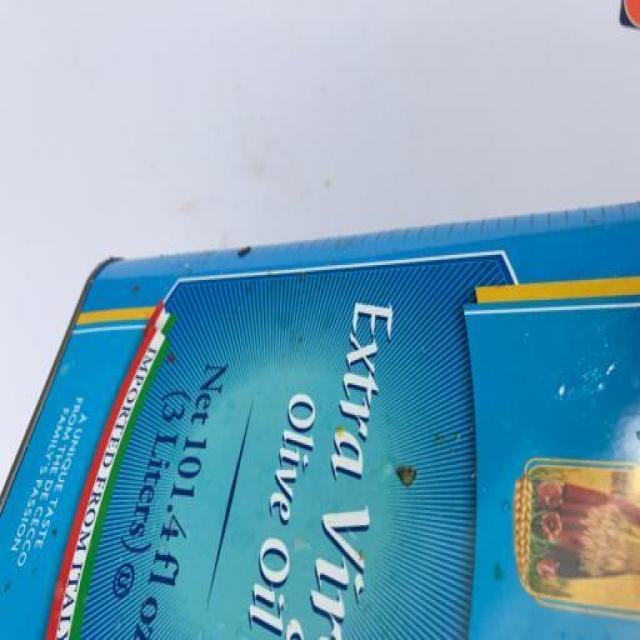metel: (2, 104, 640, 640)
